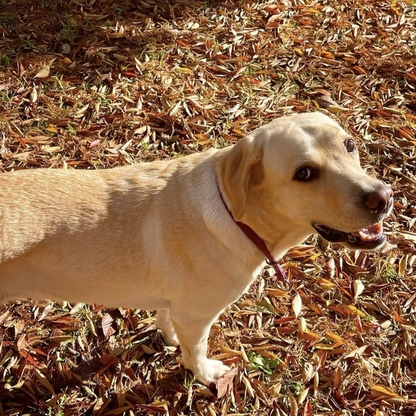labrado: (1, 104, 397, 388)
